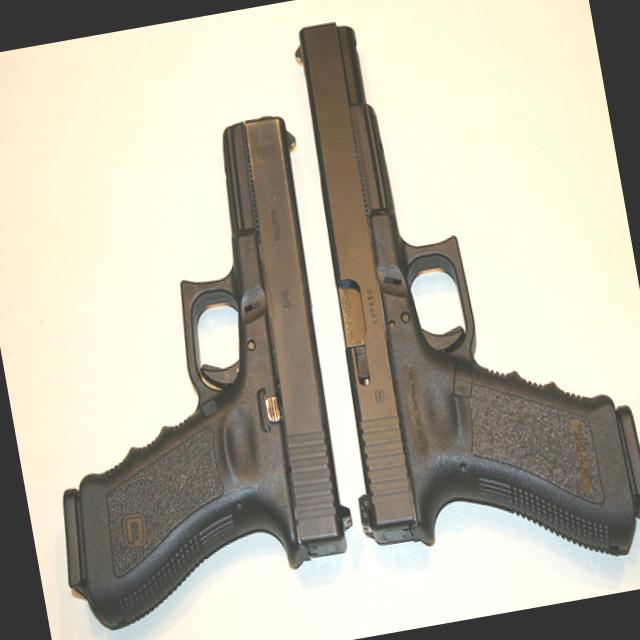handgun: (271, 0, 639, 597), (0, 109, 373, 639)
